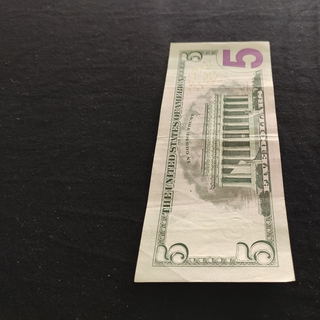5USDBack: (133, 39, 297, 283)
